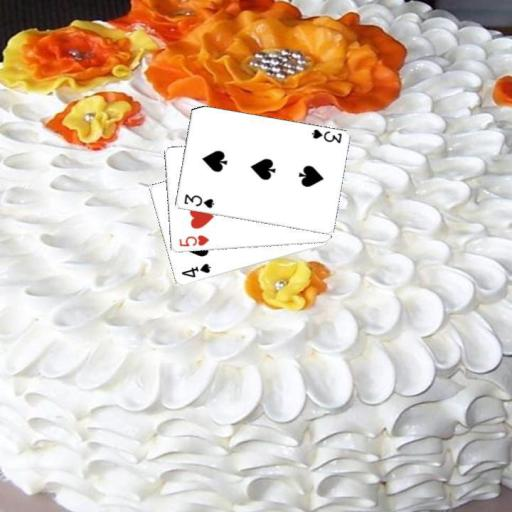3S: (181, 191, 216, 210), (308, 126, 343, 145)
4S: (178, 261, 212, 280)
5H: (176, 233, 210, 248)
